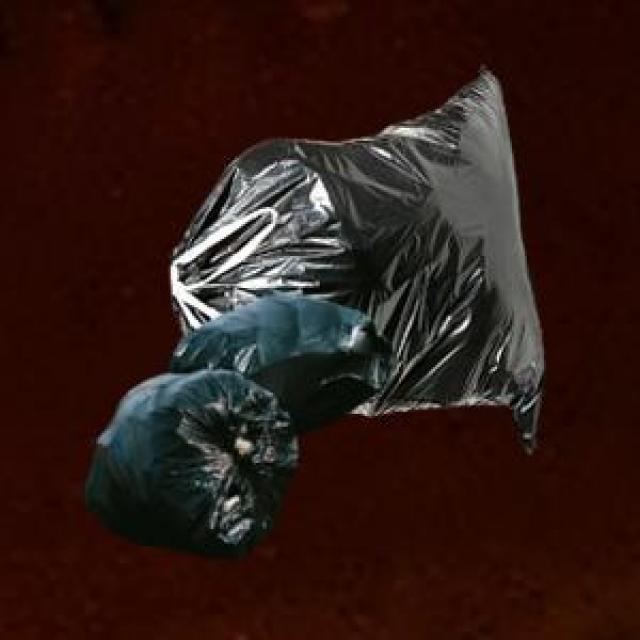waste: (88, 72, 542, 552)
